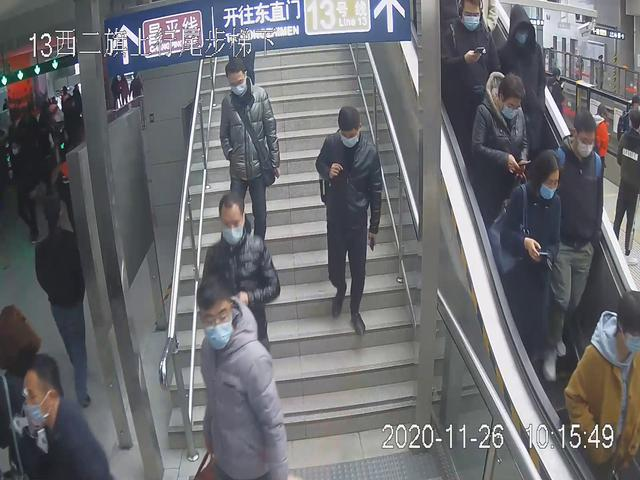person: (193, 270, 303, 480), (201, 191, 285, 382), (493, 148, 559, 390), (315, 105, 383, 335), (549, 108, 603, 361), (218, 52, 283, 261), (468, 67, 532, 240), (496, 3, 553, 168)
